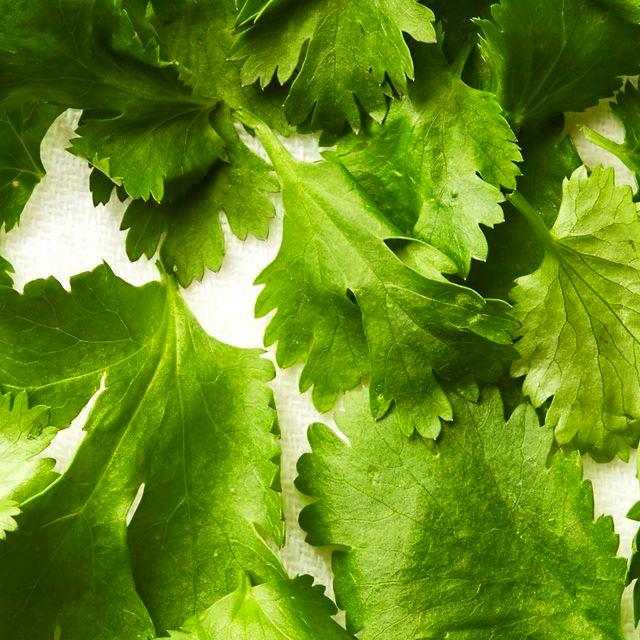cilantro: (0, 0, 640, 189)
